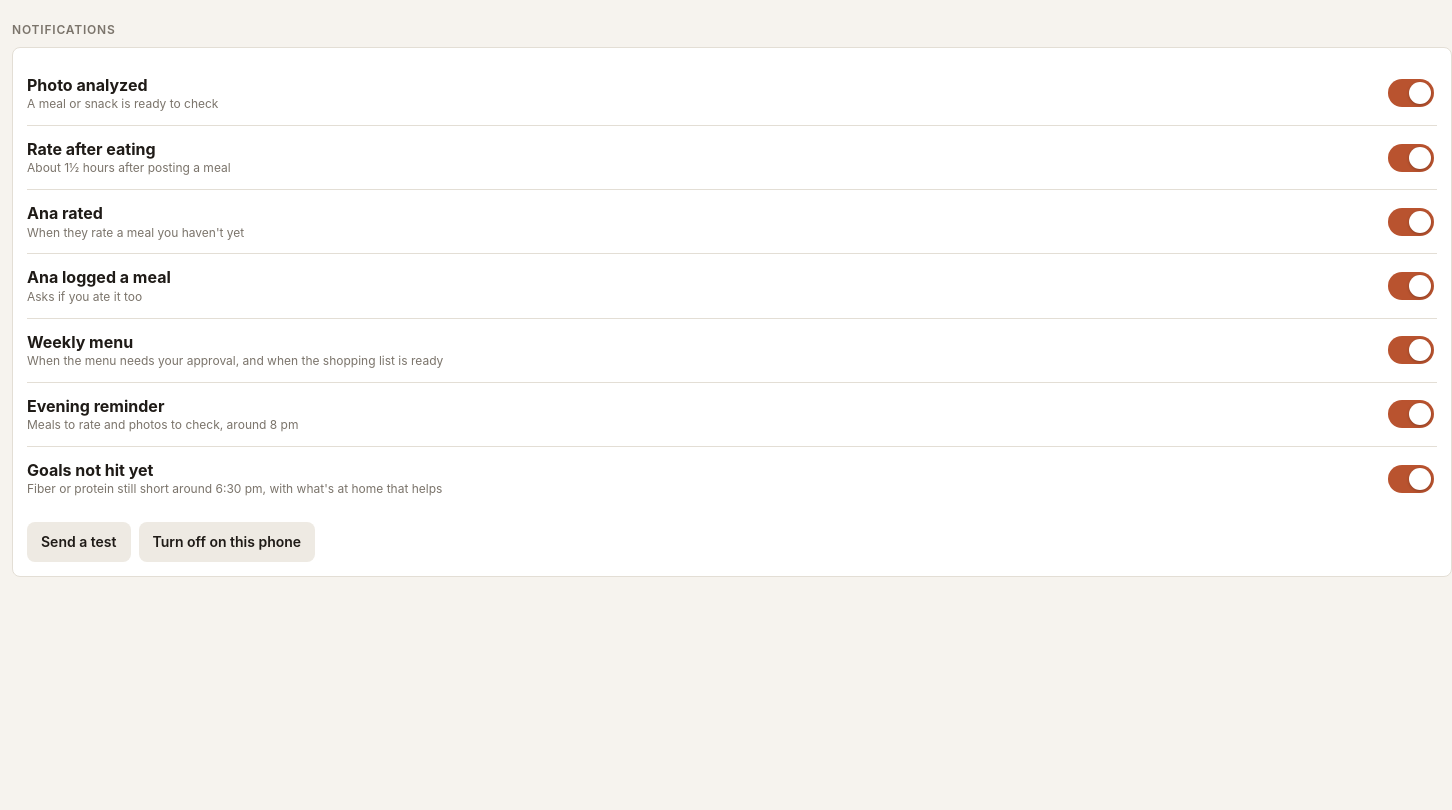
Test: NotificationSettings › when on › turns off on this phone
The width and height of the screenshot is (1452, 810).
Click the button "Turn off on this phone" at (227, 542), box [138,522,315,562]
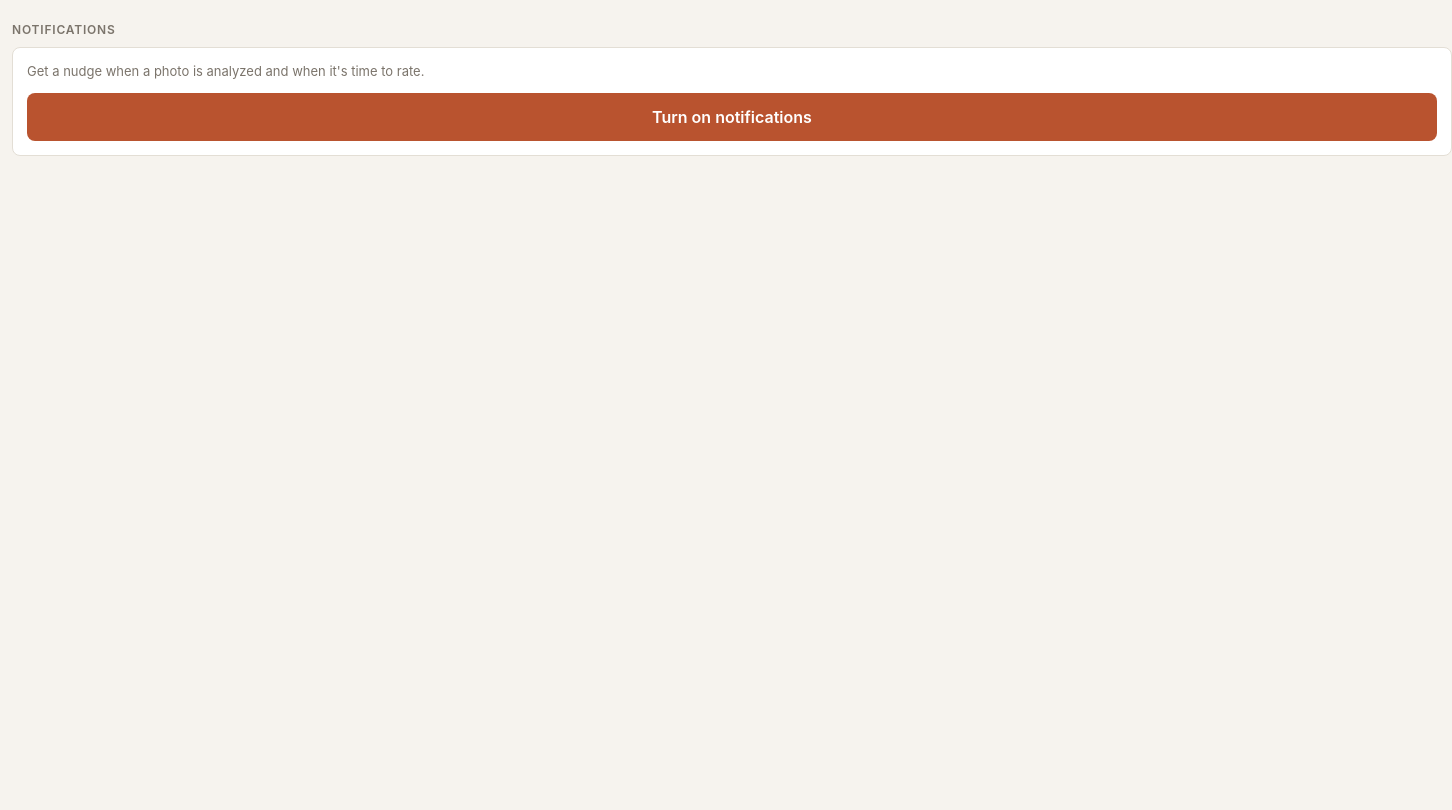
Expected: the button "Turn on notifications" is shown, [27,93,1437,141]
